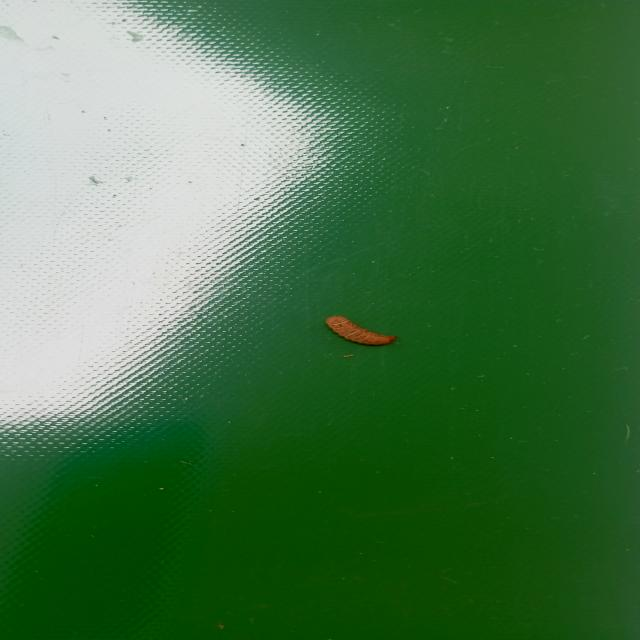Maggot: (324, 315, 398, 349)
